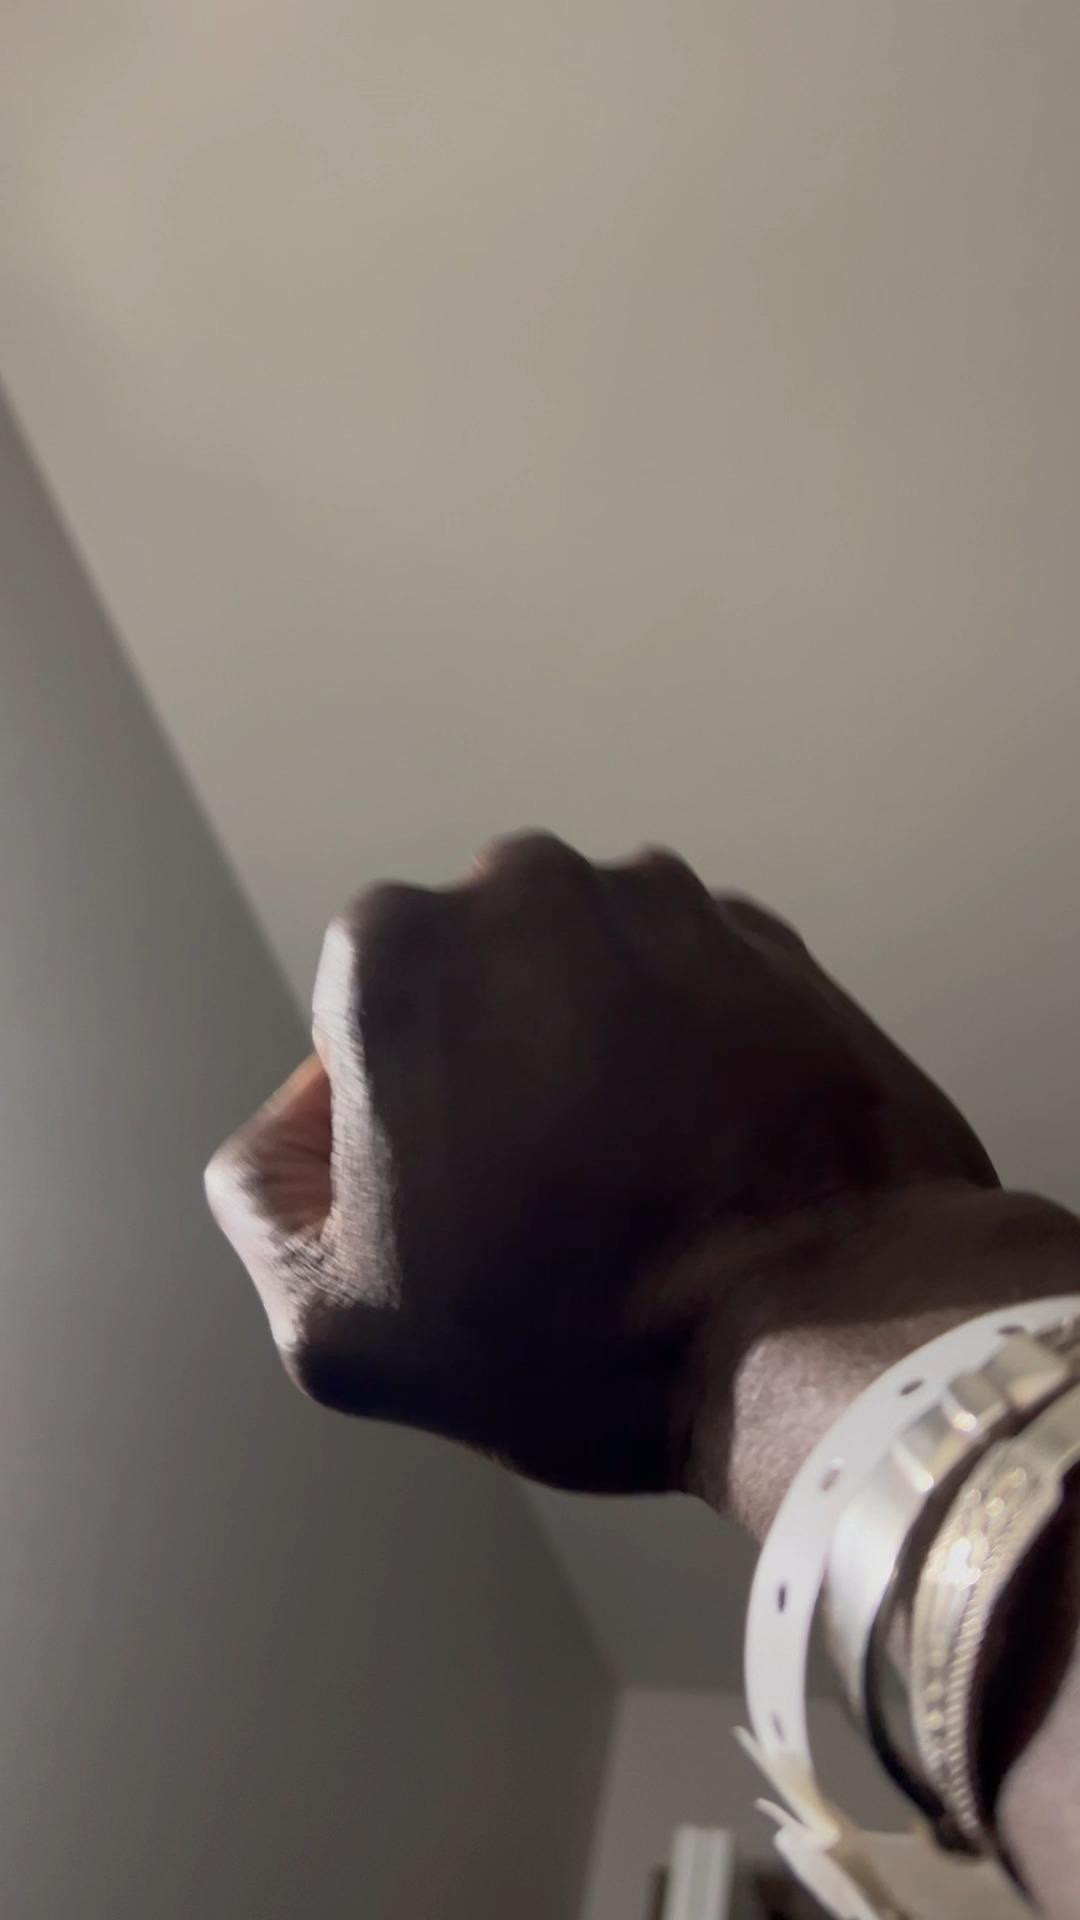Rock: (181, 820, 1026, 1495)
